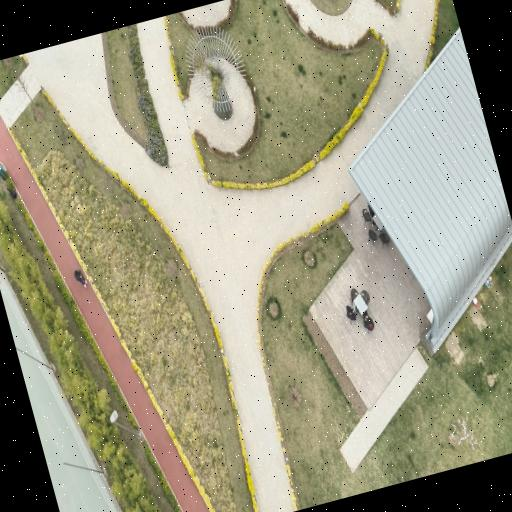person: (74, 270, 85, 287), (363, 315, 374, 331), (346, 306, 355, 321), (367, 205, 374, 217), (362, 313, 368, 323)
